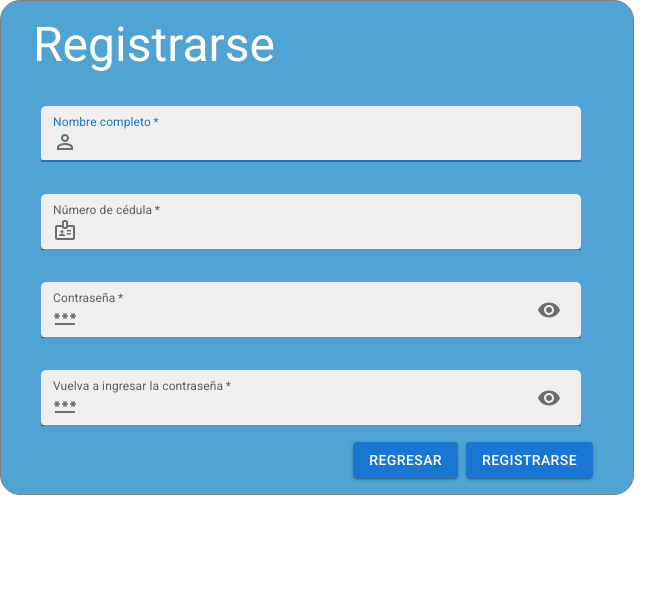
Pruebas sobre el componente <FormLogin /> › Al ingresar mal el nombre, la cedula, contraseña y la repContra, debe informarse al usuario
Step 1. Type "Jordán123213" into the field labelled "Nombre completo" → (333, 134), box [85, 106, 581, 162]
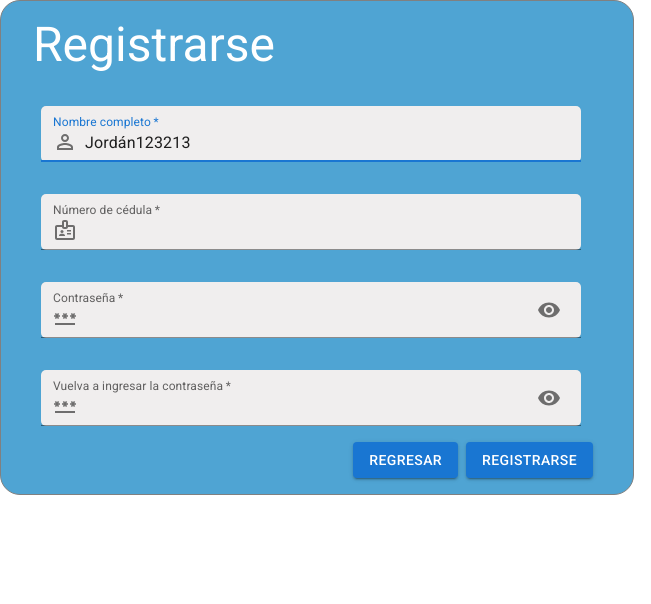
Step 2. Type "2081402222" into the number field labelled "Número de cédula" → (333, 222), box [85, 194, 581, 250]
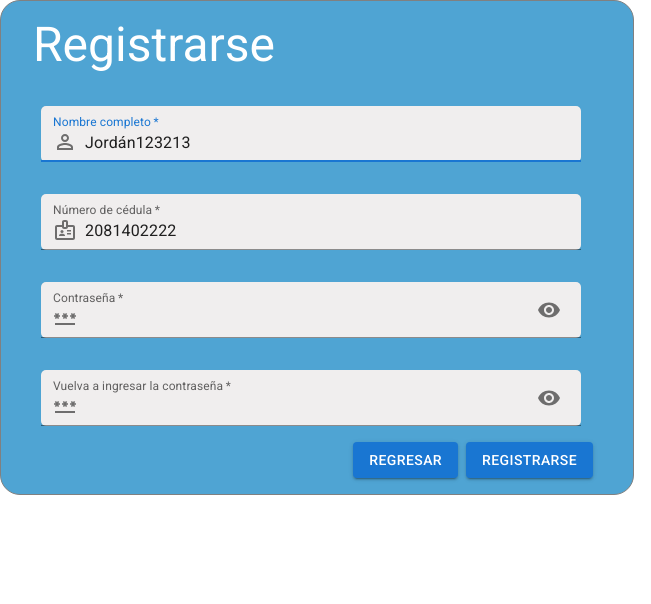
Step 3. Click the 1st button named "toggle password visibility" → (549, 310), box [529, 290, 569, 330]
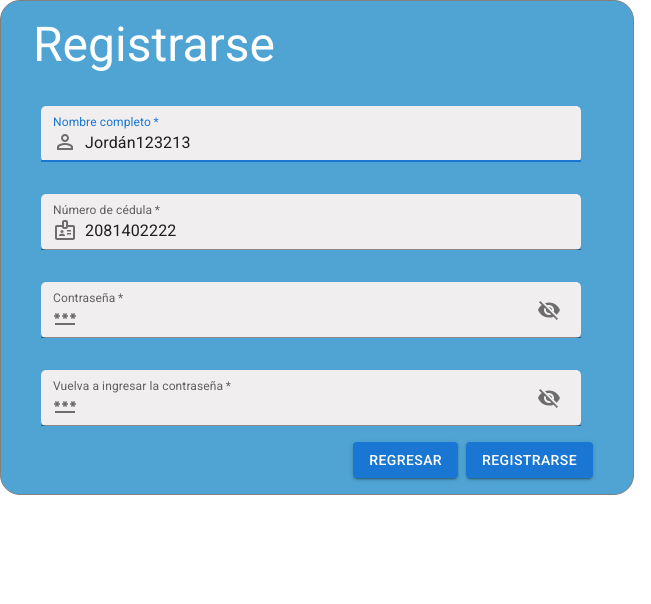
Step 4. Type "asdqw" into the field labelled "Contraseña" → (303, 310), box [85, 282, 521, 338]
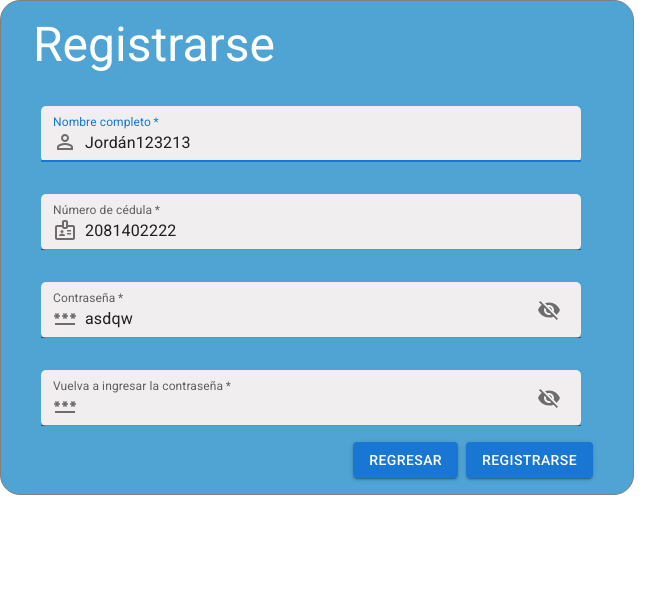
Step 5. Type "asdasd" into the field labelled "Vuelva a ingresar la contraseña" → (303, 398), box [85, 370, 521, 426]
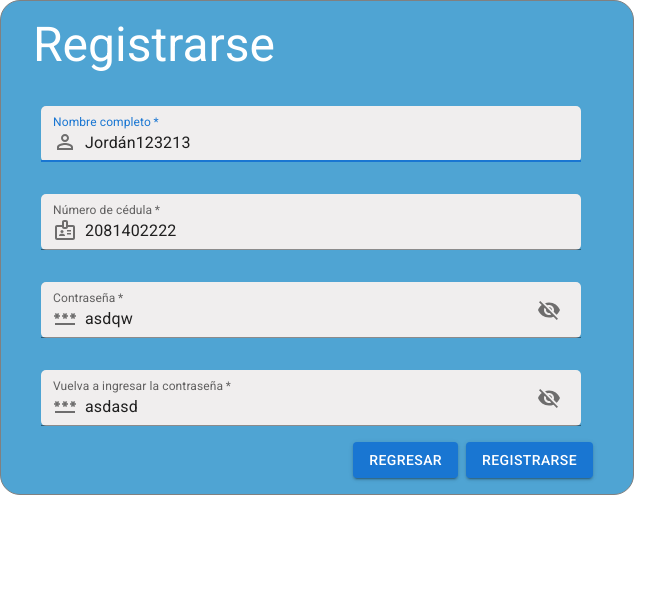
Step 6. Click the button "Registrarse" → (530, 460), box [466, 442, 593, 478]
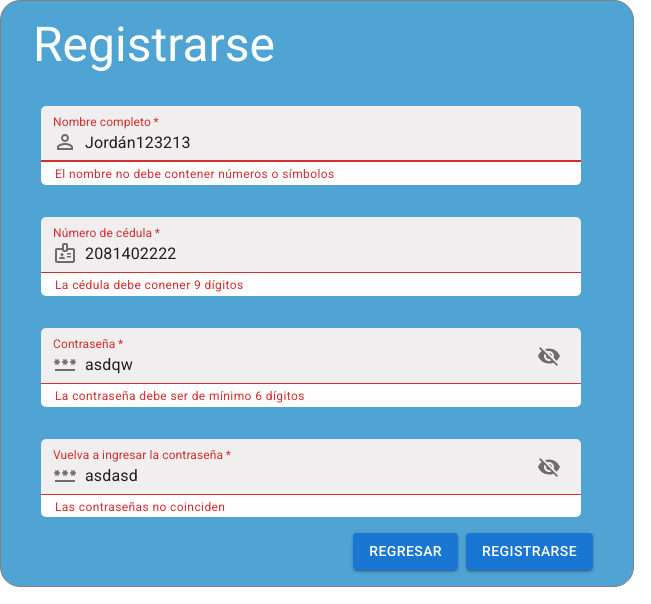
expect the text "El nombre no debe contener números o símbolos" is shown: met, box [55, 167, 335, 181]
expect the text "La cédula debe conener 9 dígitos" is shown: met, box [55, 278, 244, 292]
expect the text "La contraseña debe ser de mínimo 6 dígitos" is shown: met, box [55, 389, 305, 403]
